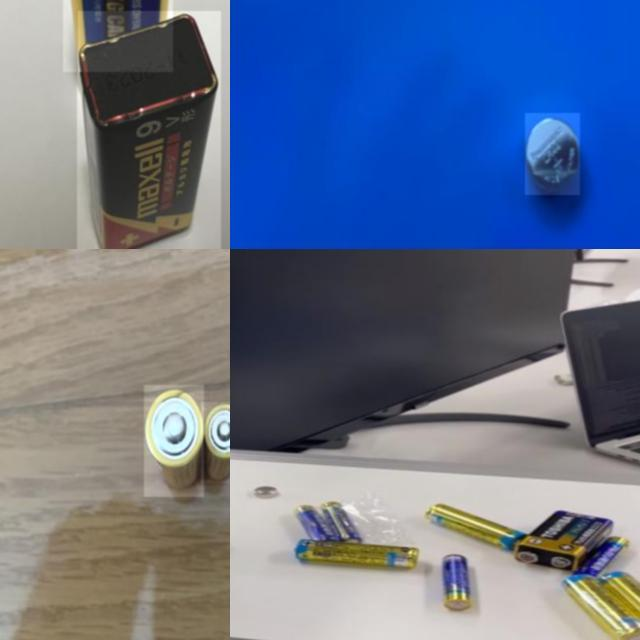9V: (77, 11, 221, 249), (63, 0, 173, 72), (512, 512, 613, 572)
